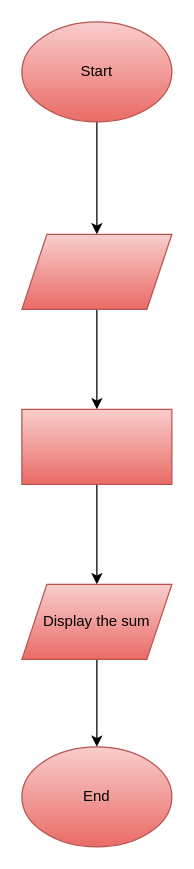
The diagram is 194 pixels wide and 869 high, and some of its shapes have lost their labels. Here are the shapes that lost their labels. From the top down, the centre of each, then its label:
At point 96,271: "Enter 2 numbers".
At point 96,446: "Add the 2 numbers".
